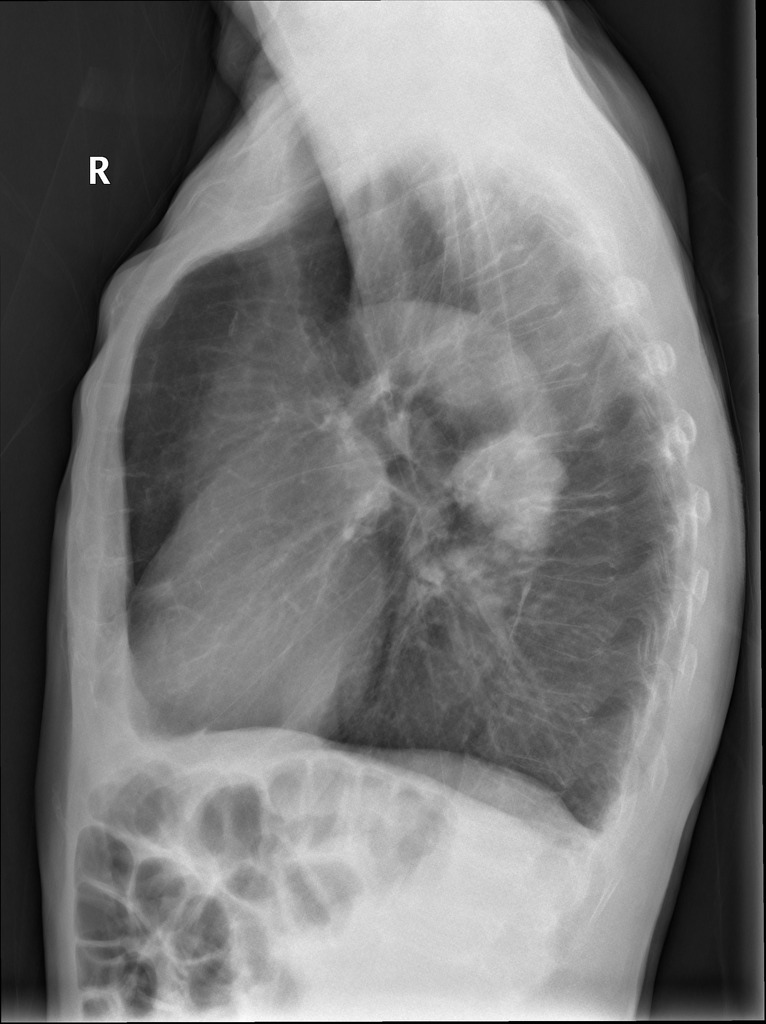cancer: (109, 205, 672, 821)
